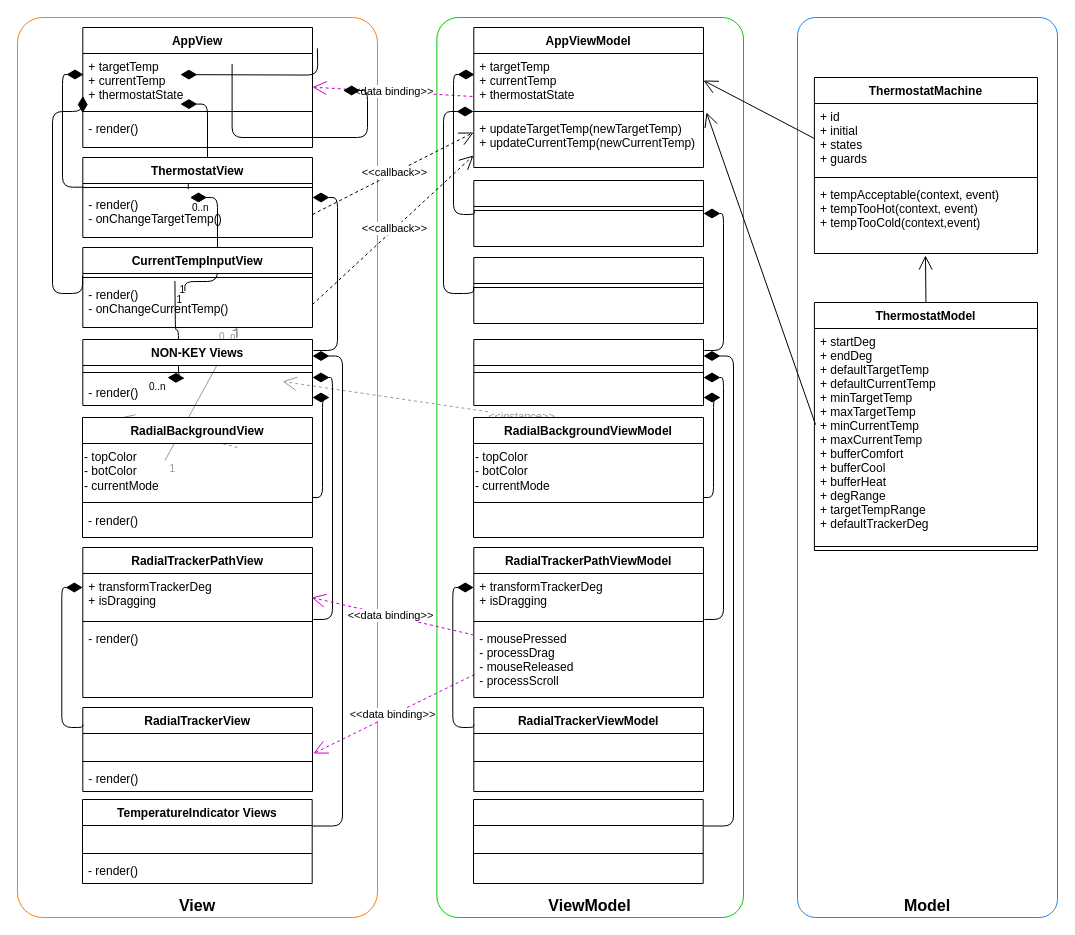
This 1075x935 diagram has some shape labels left out. Each missing label, with the centre of its shape:
"CurrentTempInputViewModel" belongs at (588,290).
"NON-KEY ViewModels" belongs at (588,372).
"TemperatureIndicator ViewModels" belongs at (587,841).
"ThermostatViewModel" belongs at (588,213).
